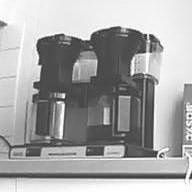not empty coffee: (86, 89, 142, 140)
